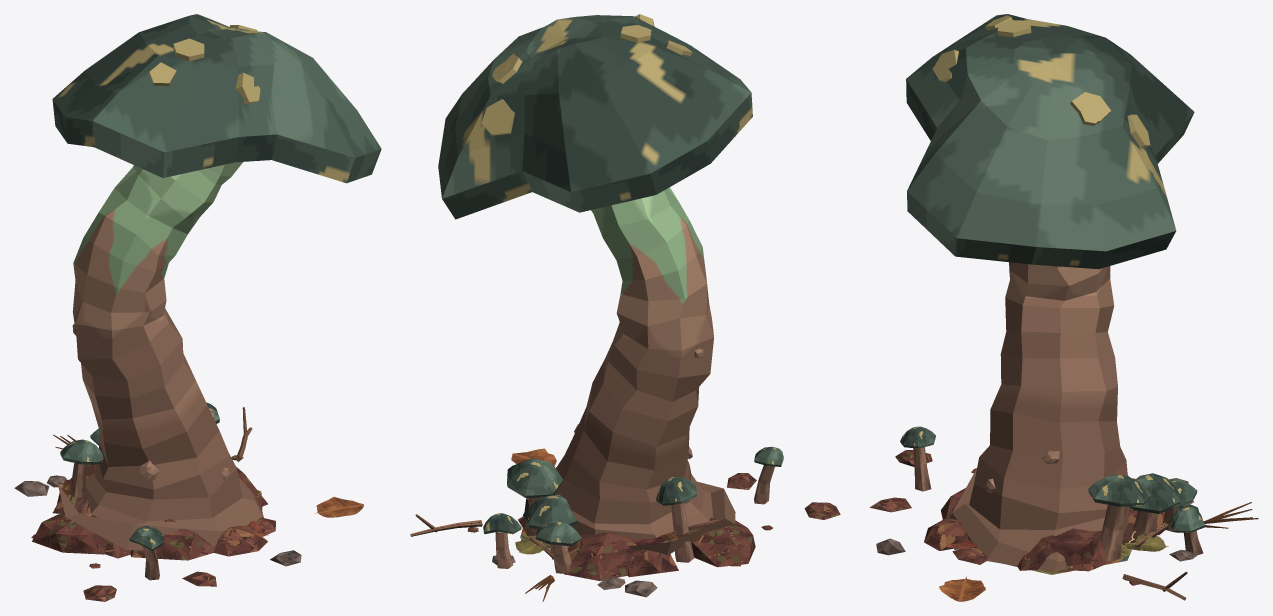
File: SM_AN37_LanternMushroom.fbx
3 renders of one model, left to right at view 1: azimuth 30°, elevation 25°; view 2: azimuth 150°, elevation 25°; view 3: azimuth 270°, elevation 25°, orthographic. The views are drawn at different scales.
Parts seen in each view (by area): view 1: AN37a_Props; view 2: AN37a_Props; view 3: AN37a_Props.
Part boxes in pixels (box(x1,y1,x2,y2)): AN37a_Props: box(14, 14, 381, 601); AN37a_Props: box(410, 14, 840, 601); AN37a_Props: box(870, 14, 1258, 601).
Bounding box in the file's own units: 1.82 × 2.51 × 1.75.
